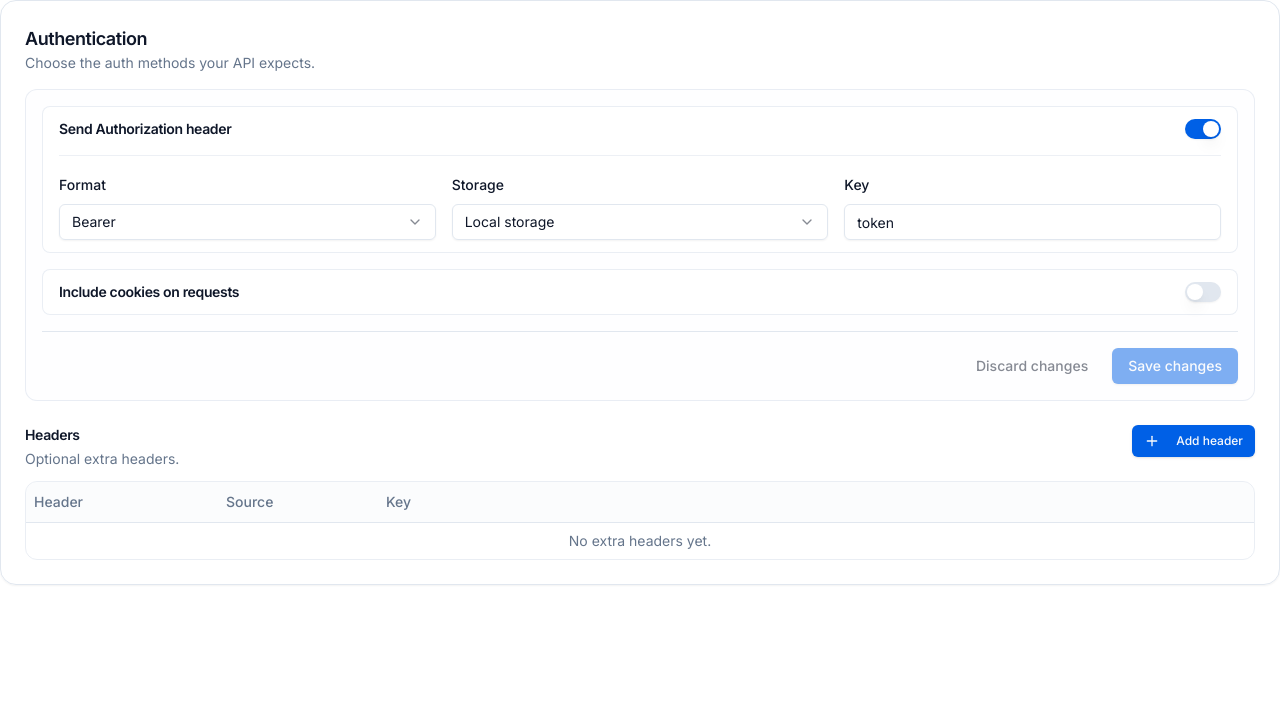
Scenario: SessionHeadersPanel › discards auth changes back to the saved config
Replace the text in the field with test id "auth-key-input" with "next_token". click: {"x": 1033, "y": 222}
box: x1=844 y1=204 x2=1221 y2=240
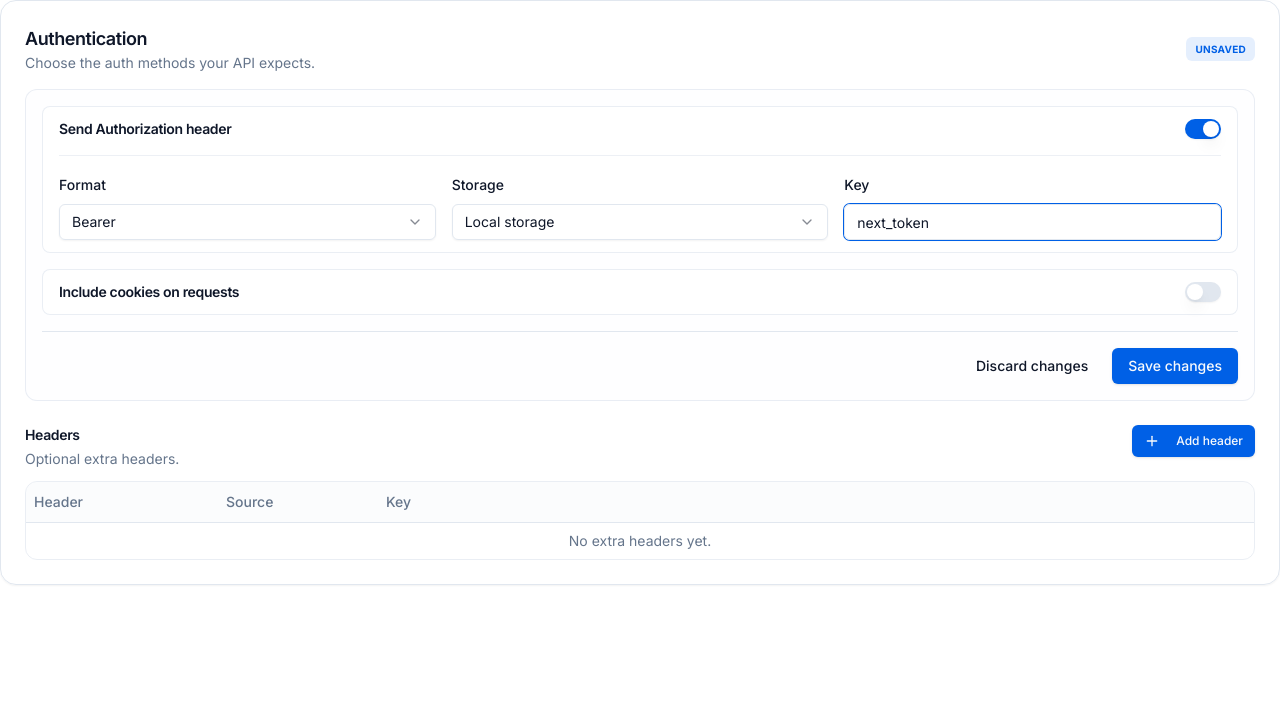
Click the switch with test id "send-cookies-switch". click: {"x": 1203, "y": 292}
box: x1=1185 y1=282 x2=1221 y2=302
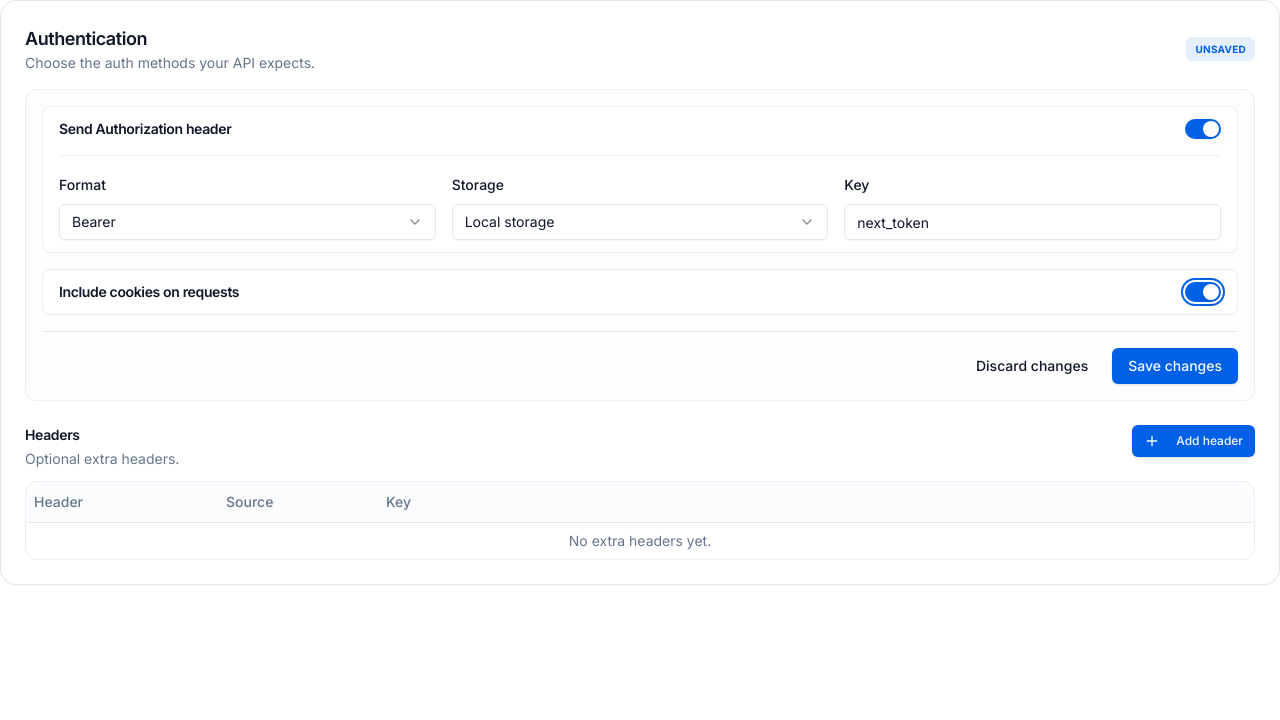
expect the text "Unsaved" is shown: met, box x1=1186 y1=37 x2=1255 y2=61
Click the button with test id "discard-auth-settings". click: {"x": 1032, "y": 366}
box: x1=960 y1=348 x2=1104 y2=384
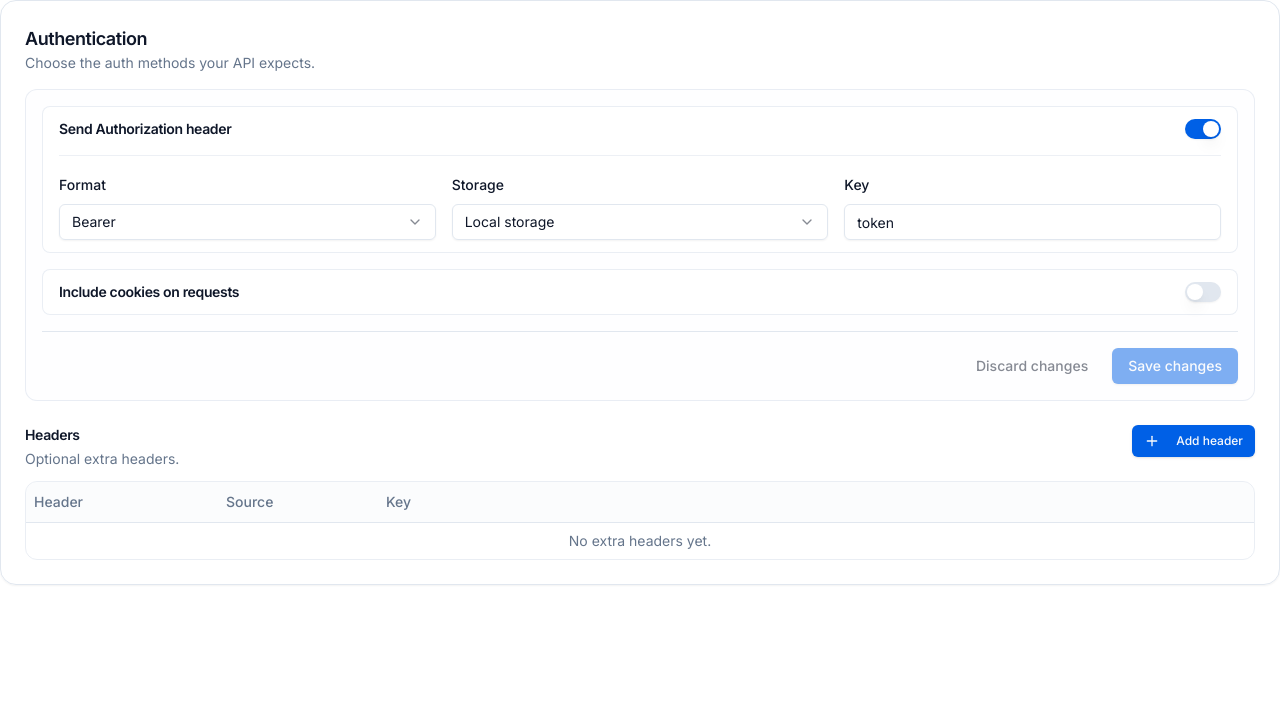
expect the text with test id "auth-dirty-badge" is gone: met
expect the field with test id "auth-key-input" holds "token": met, box x1=844 y1=204 x2=1221 y2=240
expect the button with test id "save-auth-settings" is disabled: met, box x1=1112 y1=348 x2=1238 y2=384
